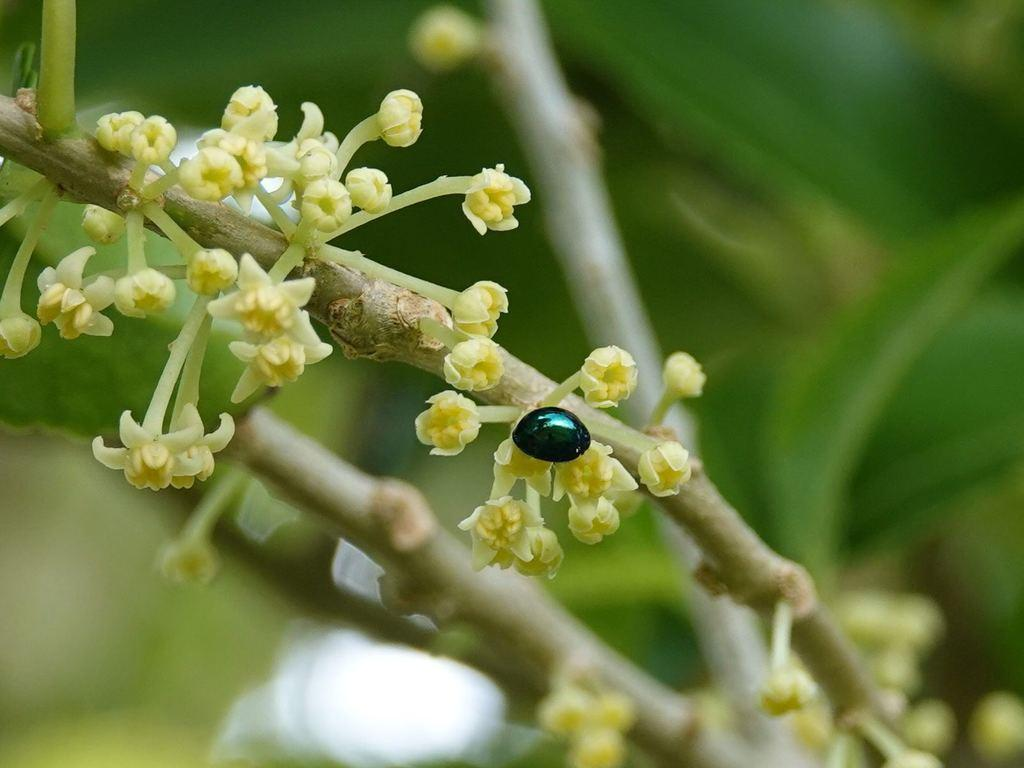ladybug: (511, 403, 595, 469)
